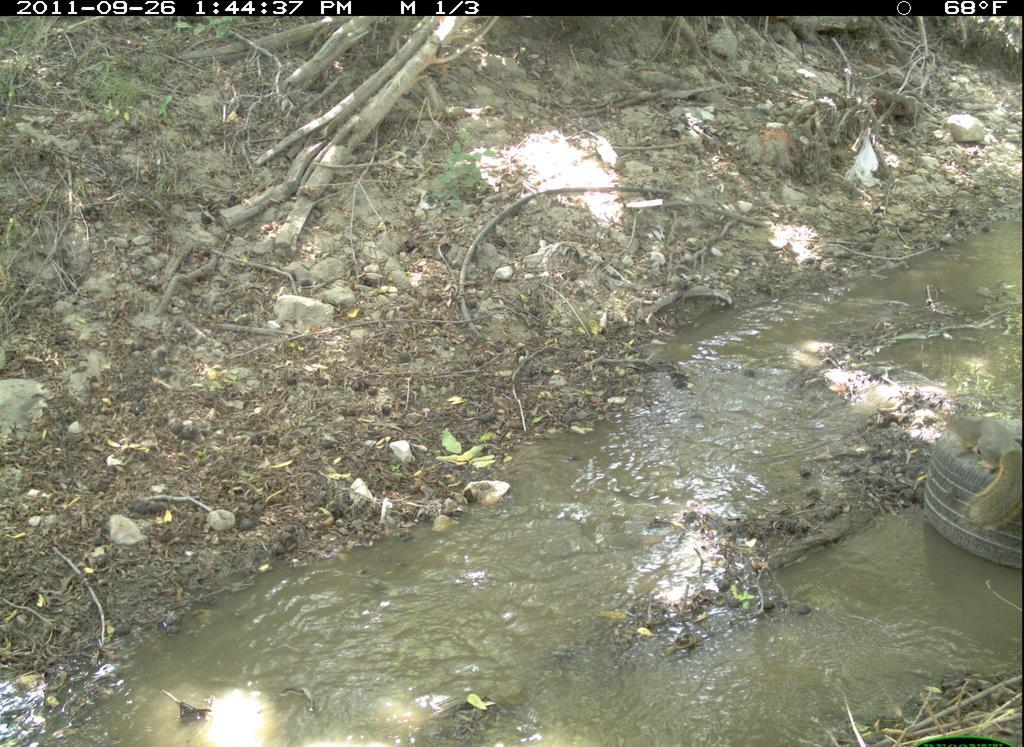squirrel: (931, 392, 1023, 545)
